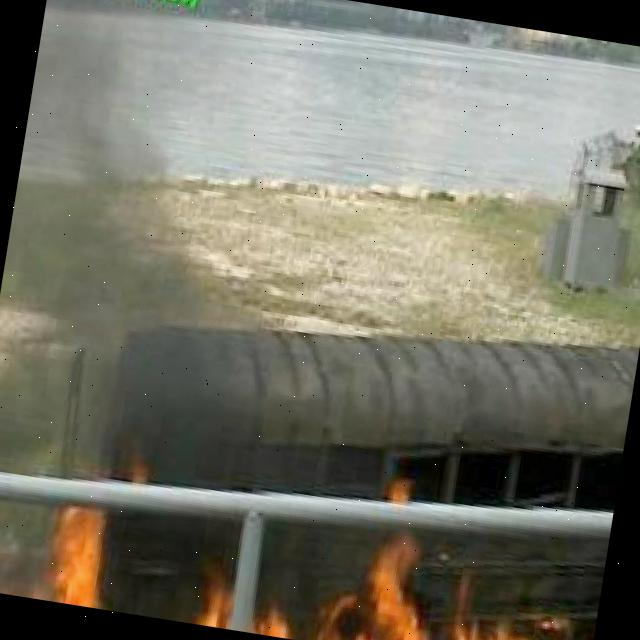fire: (319, 546, 601, 640), (0, 498, 143, 614), (195, 560, 314, 640)
